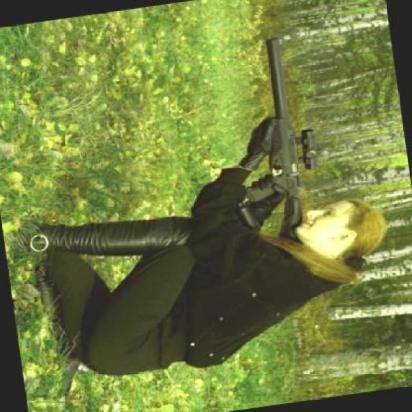Gun: (238, 36, 322, 240)
